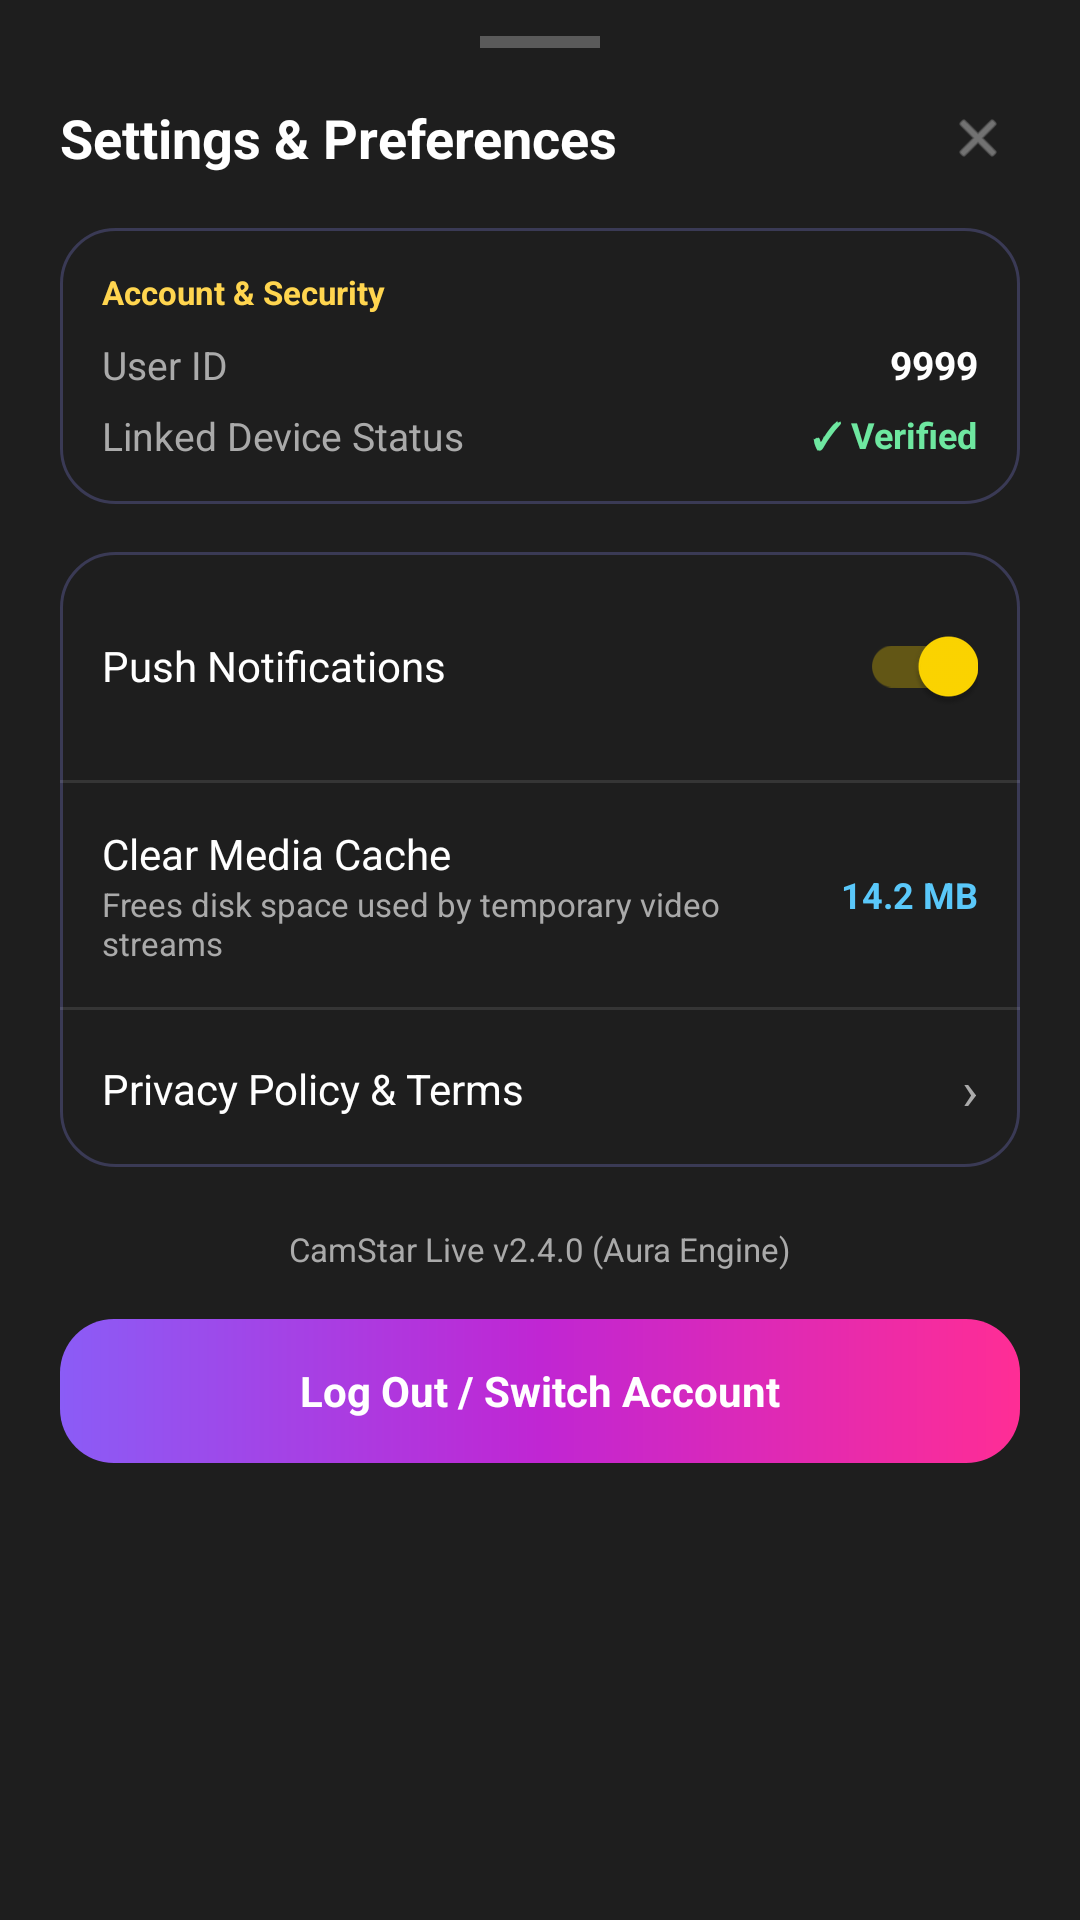

Named icons in this screenshot (1080w x 1920h) and their bounding boxes, Rect(x1, y1, x2, y2):
Close: Rect(959, 119, 997, 157)
